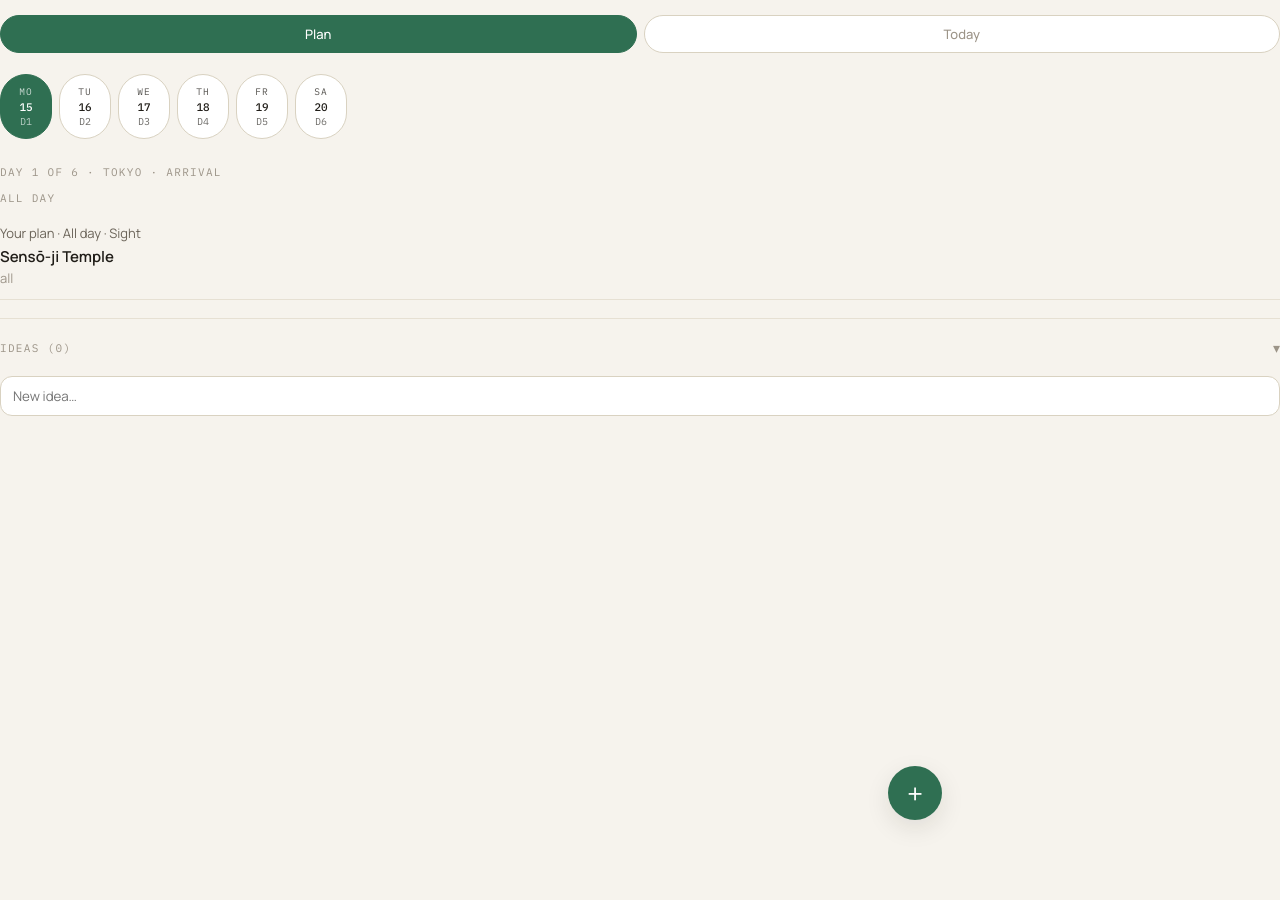
ItineraryTab — View Details › shows an all-day stop's time as "All day" rather than a blank time
This screenshot has width=1280, height=900.
Click the button with aria-label "Open Sensō-ji Temple" at point(31, 233), box left=0, top=212, right=1279, bottom=300
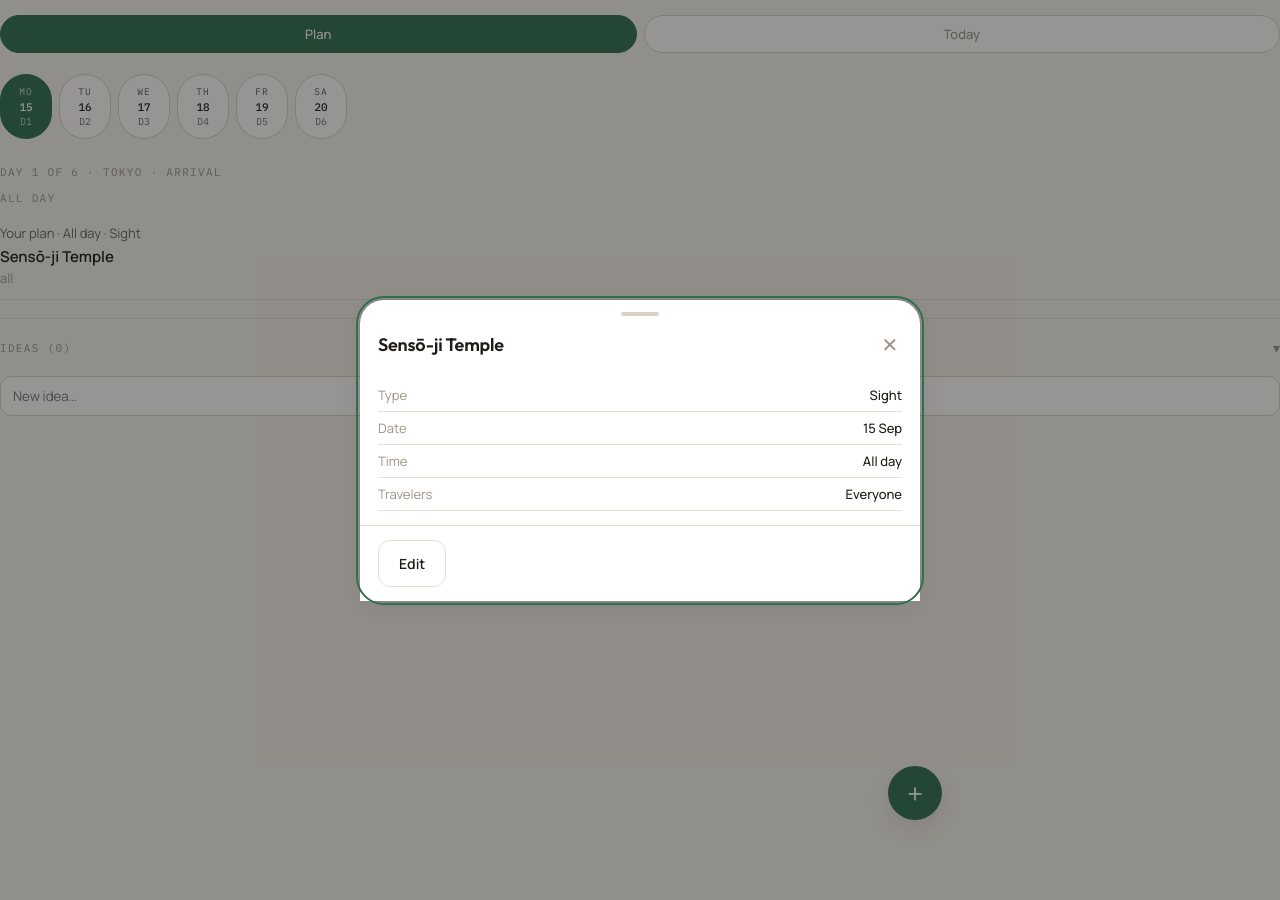
Now the text "All day" in the row of "Time" is shown, box left=863, top=452, right=902, bottom=470
